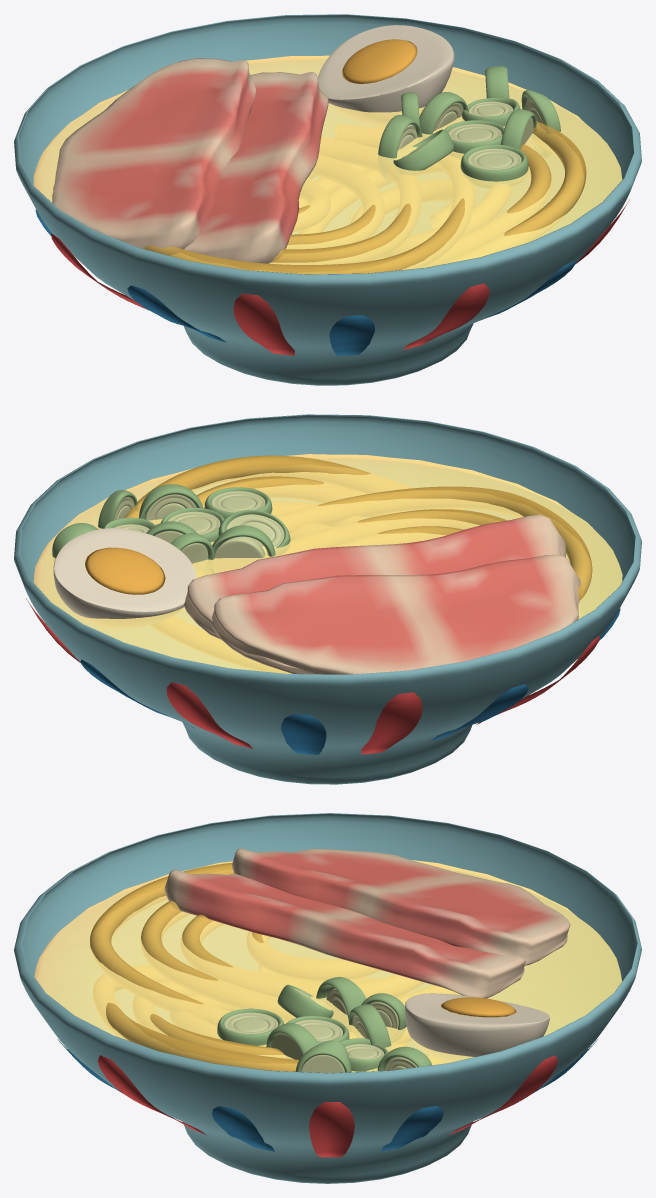
File: ramen.fbx
3 views of the same model, one above another, from view 1: azimuth 30°, elevation 25°; view 2: azimuth 150°, elevation 25°; view 3: azimuth 270°, elevation 25° (orthographic).
Visible parts, largest first — view 1: Ramen.Bowl, Ramen.Bowl.006, Ham.slices.002, noodle.001, Ham.slices.003, noodle, egg, egg.yolk, Ramen.Bowl.003, Ramen.Bowl.004, Ramen.Bowl.001, spring.onion (+13 smaller); view 2: Ramen.Bowl, Ham.slices.002, Ramen.Bowl.006, Ham.slices.003, noodle.001, noodle, egg, egg.yolk, Ramen.Bowl.003, Ramen.Bowl.004, Ramen.Bowl.001, spring.onion.heart.003 (+13 smaller); view 3: Ramen.Bowl, Ramen.Bowl.006, Ham.slices.002, Ham.slices.003, noodle.001, noodle, egg, Ramen.Bowl.005, Ramen.Bowl.003, Ramen.Bowl.002, egg.yolk, spring.onion.001 (+12 smaller).
Boxes of the visible parts, box(x1,y1,x2,y2) form: Ramen.Bowl: box(14, 14, 641, 385); Ramen.Bowl.006: box(33, 55, 622, 273); Ham.slices.002: box(52, 58, 255, 254); noodle.001: box(144, 125, 474, 274); Ham.slices.003: box(184, 72, 328, 263); noodle: box(299, 121, 586, 267); egg: box(317, 25, 454, 125); egg.yolk: box(342, 39, 417, 83); Ramen.Bowl.003: box(233, 199, 629, 355); Ramen.Bowl.004: box(329, 260, 575, 356); Ramen.Bowl.001: box(403, 283, 489, 349); spring.onion: box(460, 144, 528, 187); Ramen.Bowl: box(14, 414, 641, 784); Ham.slices.002: box(211, 554, 580, 674); Ramen.Bowl.006: box(33, 454, 622, 673); Ham.slices.003: box(183, 514, 565, 641); noodle.001: box(196, 486, 592, 601); noodle: box(124, 455, 461, 673); egg: box(53, 528, 196, 627); egg.yolk: box(85, 547, 165, 594); Ramen.Bowl.003: box(26, 598, 422, 754); Ramen.Bowl.004: box(80, 659, 326, 754); Ramen.Bowl.001: box(166, 682, 252, 748); spring.onion.heart.003: box(211, 536, 265, 573); Ramen.Bowl: box(14, 813, 641, 1183); Ramen.Bowl.006: box(34, 860, 621, 1072); Ham.slices.002: box(232, 848, 570, 965); Ham.slices.003: box(164, 869, 526, 998); noodle.001: box(90, 862, 459, 1043); noodle: box(93, 965, 448, 1071); egg: box(405, 993, 549, 1061); Ramen.Bowl.005: box(212, 1106, 443, 1151); Ramen.Bowl.003: box(97, 1055, 557, 1135); Ramen.Bowl.002: box(309, 1102, 354, 1157); egg.yolk: box(441, 997, 516, 1017); spring.onion.001: box(277, 984, 333, 1018).
Size of the model in its own units: 250 by 87.72 by 250.
